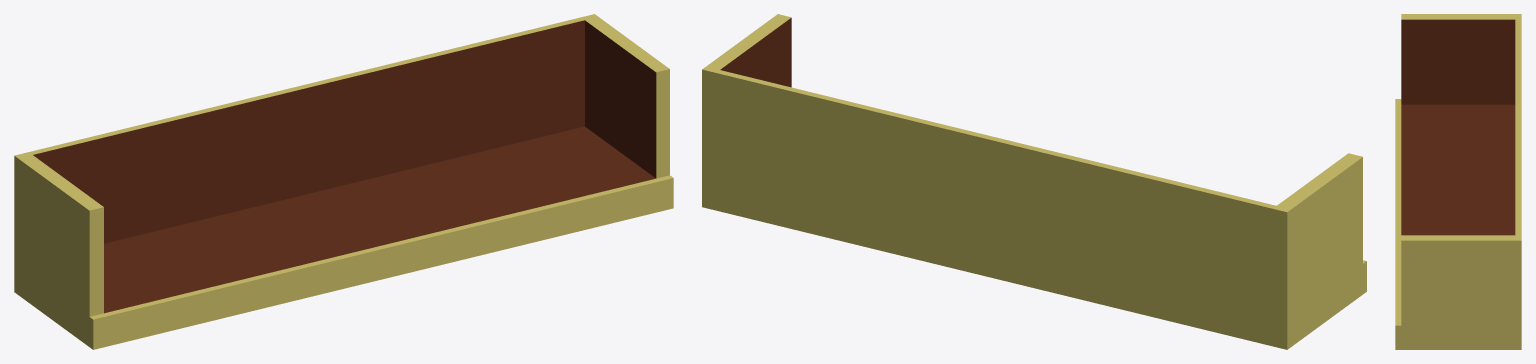
Rendered from Shelf.fbx.
The picture shows the model from 3 angles, left to right: view 1: azimuth 30°, elevation 25°; view 2: azimuth 150°, elevation 25°; view 3: azimuth 270°, elevation 25°; orthographic projection. The views are drawn at different scales.
Visible parts, largest first — view 1: Shelf; view 2: Shelf; view 3: Shelf.
Boxes of the visible parts, x1,y1,x2,y2 form: Shelf: (14,14,673,349); Shelf: (702,14,1366,349); Shelf: (1395,14,1521,349).
Size of the model in its own units: 4004 by 900 by 944.
